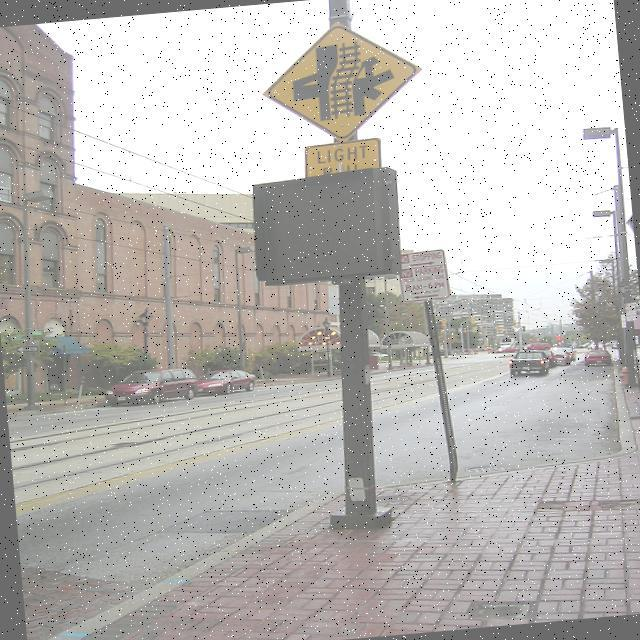fire_hydrant: (617, 366, 628, 386)
